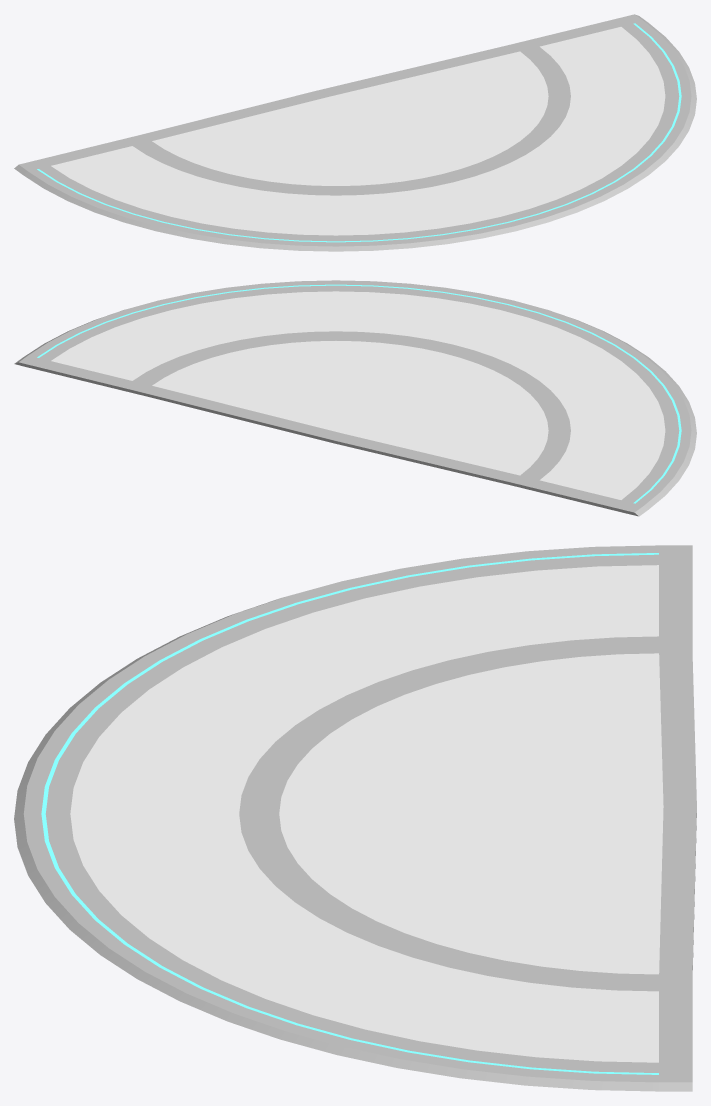
Rendered from disk_01.fbx.
3 renders of one model, top to bottom at view 1: azimuth 30°, elevation 25°; view 2: azimuth 150°, elevation 25°; view 3: azimuth 270°, elevation 25°, orthographic. The views are drawn at different scales.
Visible parts, largest first — view 1: Cylinder068; view 2: Cylinder068; view 3: Cylinder068.
Boxes of the visible parts, x1,y1,x2,y2 form: Cylinder068: [14, 14, 696, 251]; Cylinder068: [14, 280, 696, 516]; Cylinder068: [14, 545, 696, 1091].
Bounding box in the file's own units: 785 × 3.48 × 416.
